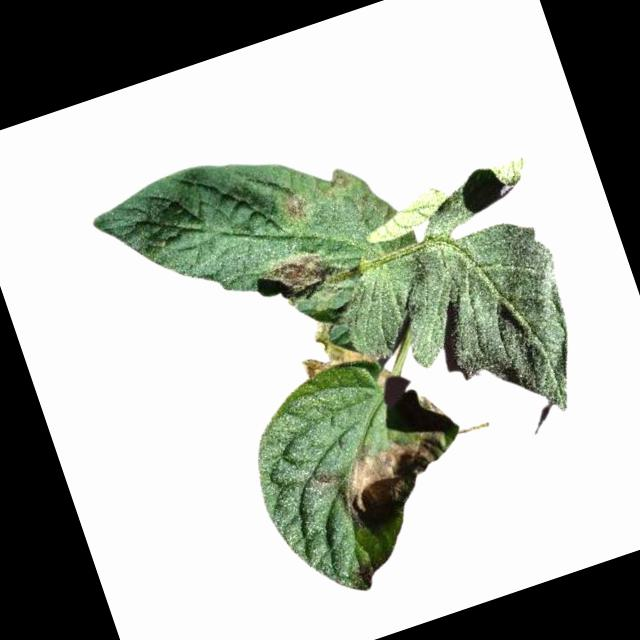Late_blight: (327, 422, 459, 528), (289, 306, 383, 386), (259, 243, 336, 307), (277, 191, 313, 227)
healthy: (330, 204, 602, 466)
